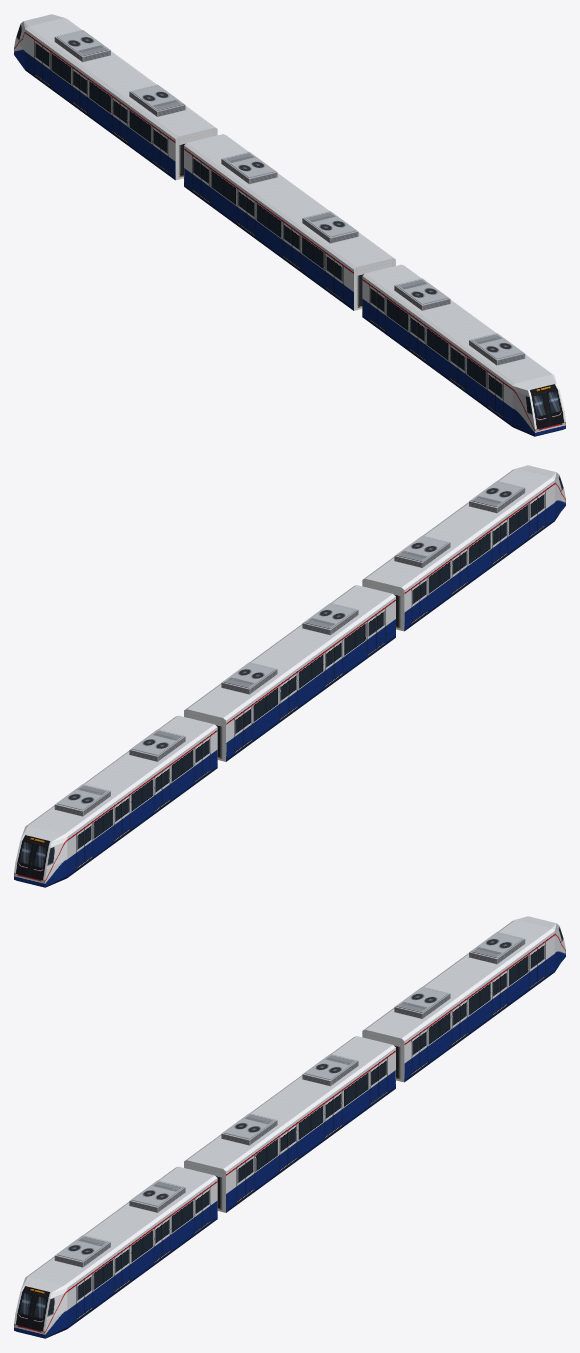
Rendered from BTS_Train_FullConsist.glb.
3 views of the same model, one above another, from view 1: azimuth 30°, elevation 25°; view 2: azimuth 150°, elevation 25°; view 3: azimuth 330°, elevation 25° (orthographic).
Visible parts, largest first — view 1: BTS_Train_3Car_Consist; view 2: BTS_Train_3Car_Consist; view 3: BTS_Train_3Car_Consist.
Boxes of the visible parts, bbox=[...] form: BTS_Train_3Car_Consist: bbox=[14, 14, 565, 436]; BTS_Train_3Car_Consist: bbox=[14, 465, 565, 887]; BTS_Train_3Car_Consist: bbox=[14, 916, 565, 1338].
Size of the model in its own units: 3.12 by 4.19 by 66.9.
Materials: 1 (1 with a texture image).
